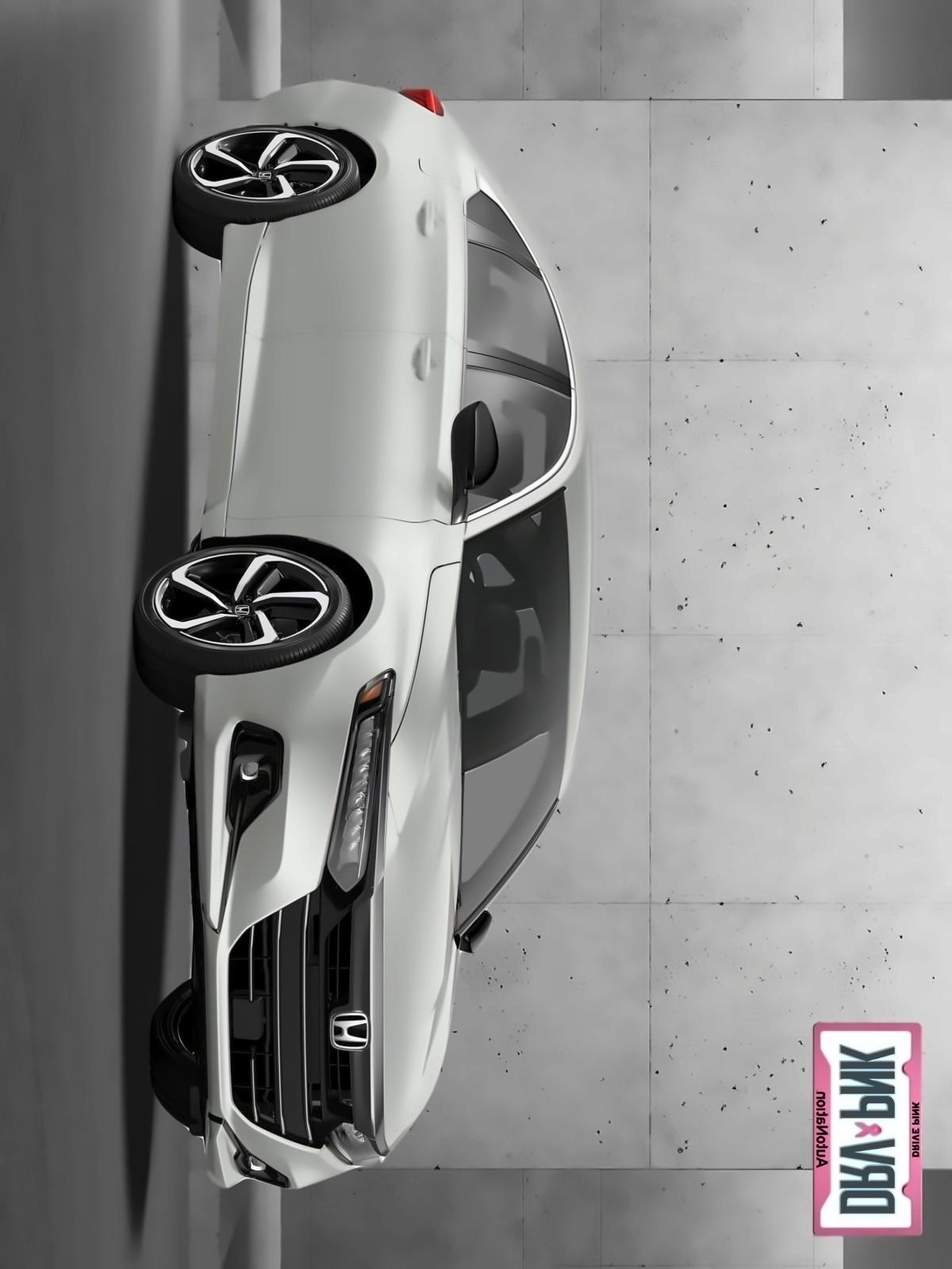Car hood: (361, 553, 467, 1160)
Driver-s door - -F-R-: (220, 330, 593, 526)
Fender - -F-R-: (183, 516, 475, 735)
Fender - -R-R-: (217, 113, 484, 233)
Front bumper: (175, 661, 342, 1203)
Headlight - -L-: (312, 1105, 398, 1184)
Headlight - -R-: (323, 661, 405, 917)
Passenger-s door - -R-R-: (241, 189, 588, 334)
Rear bumper: (171, 69, 314, 153)
Rear light - -R-: (384, 80, 467, 127)
Side bumper - -R-: (162, 201, 270, 557)
Side mirror - -L-: (450, 881, 508, 975)
Side mirror - -R-: (431, 389, 513, 518)
